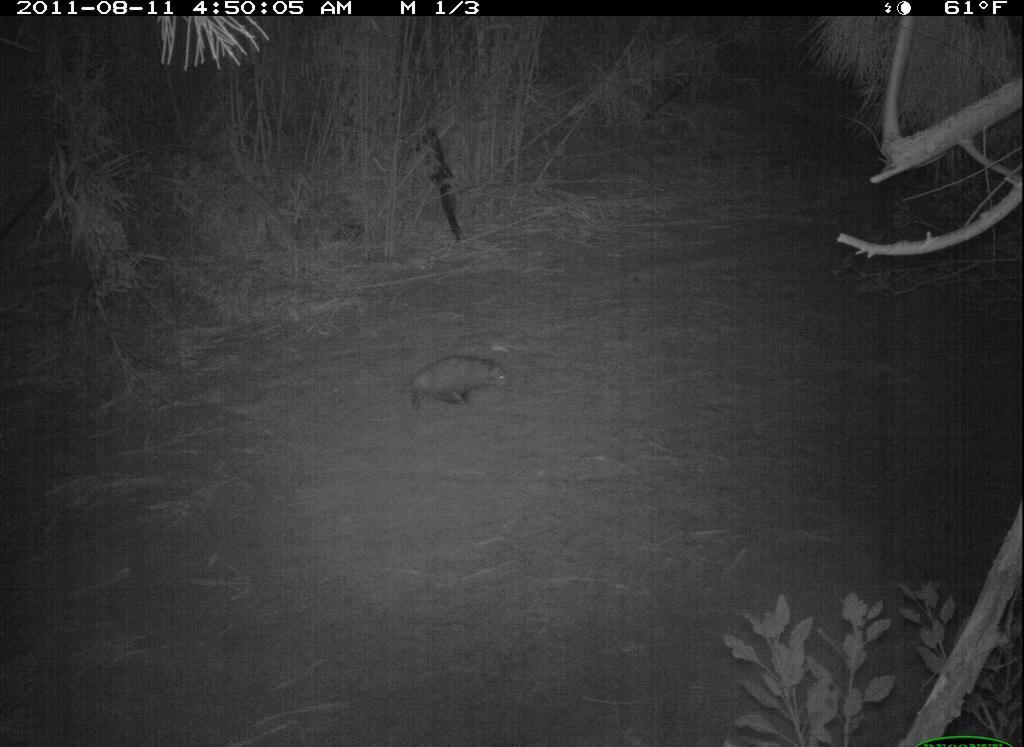opossum: (387, 338, 521, 427)
